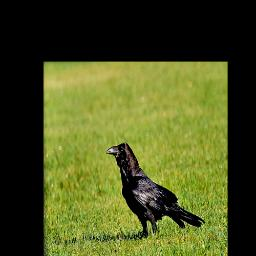Crow: (105, 140, 205, 240)
